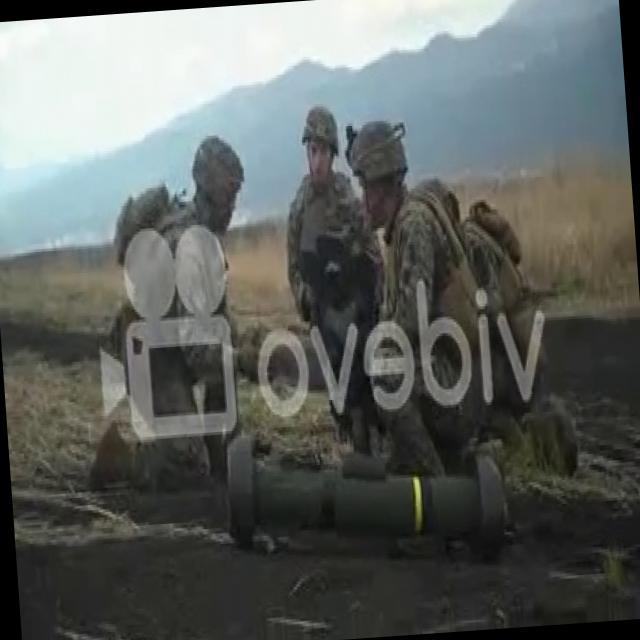rocket: (226, 418, 508, 552)
